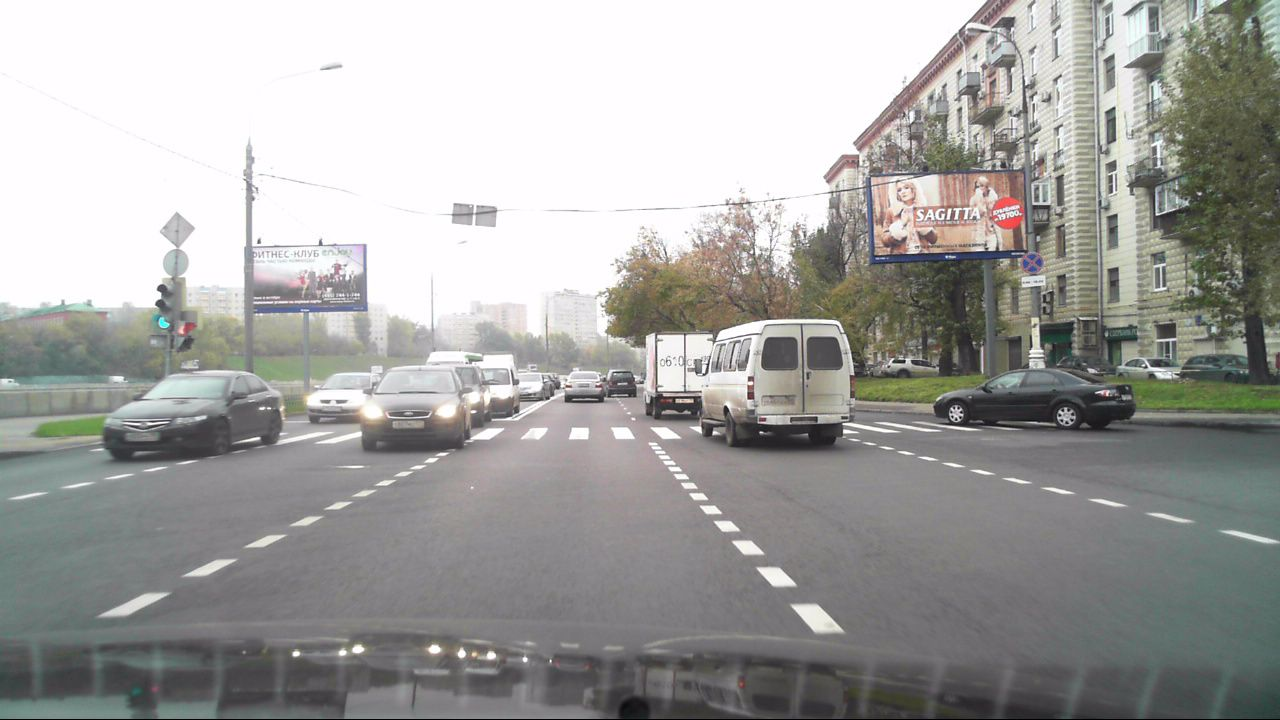No Parking: (1020, 249, 1046, 274)
